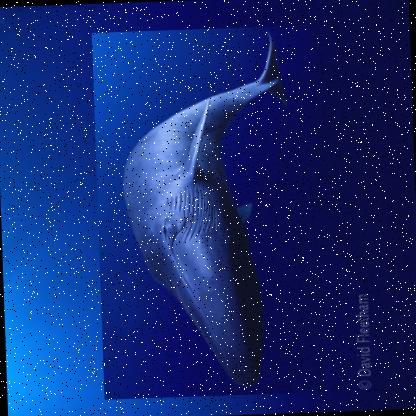blue_whale: (91, 24, 326, 400)
